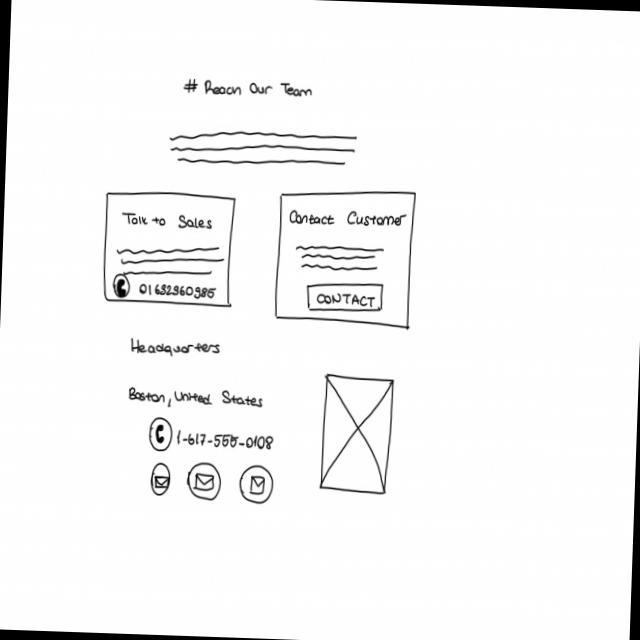button: (306, 280, 384, 314)
container: (273, 185, 416, 329), (101, 187, 236, 308)
icon-button: (186, 460, 222, 502), (238, 462, 274, 504), (148, 416, 174, 452), (150, 461, 171, 496), (112, 272, 130, 299)
image: (318, 374, 394, 496)
label: (125, 382, 265, 412), (180, 76, 314, 102), (287, 208, 408, 230), (176, 428, 276, 451), (128, 335, 222, 359), (120, 210, 214, 230), (136, 280, 218, 300)
text: (168, 126, 358, 170), (115, 241, 225, 278), (294, 242, 384, 272)
